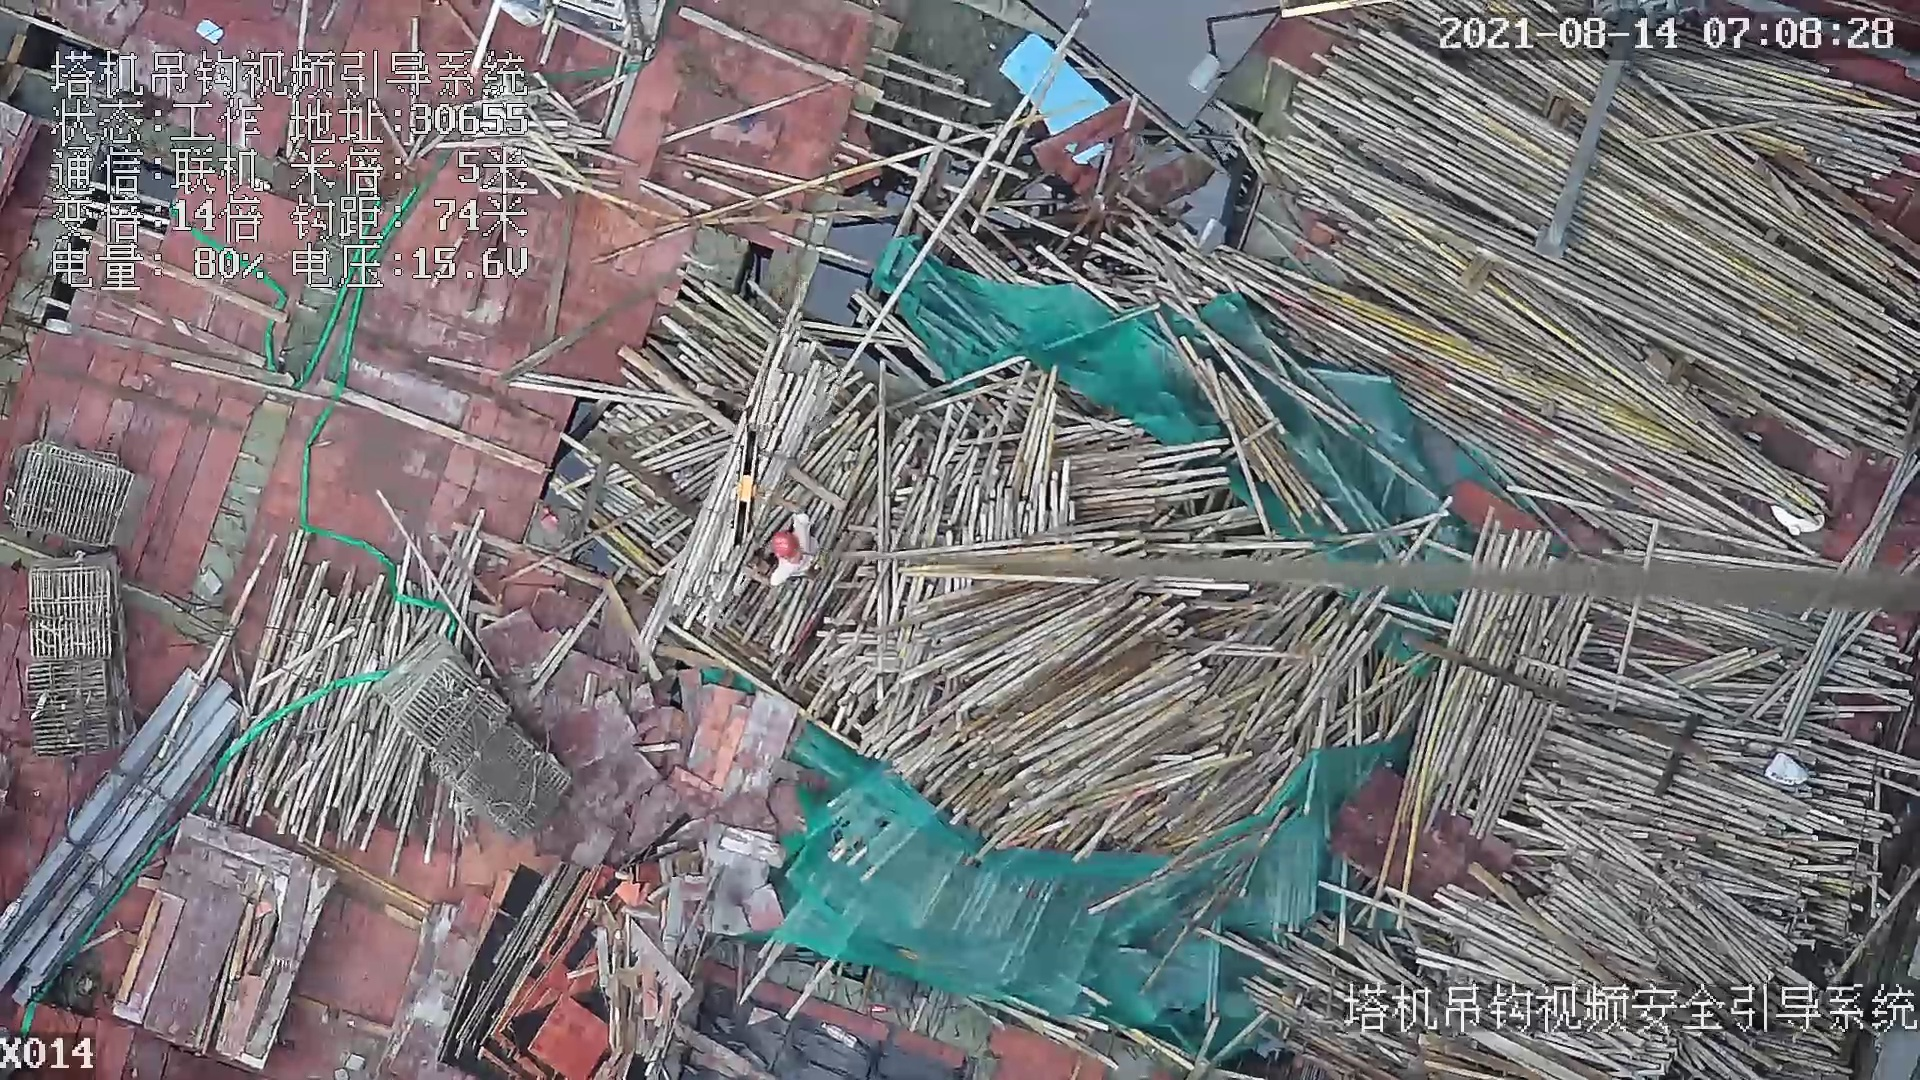helmet: (769, 531, 799, 562)
hook: (727, 424, 765, 554)
person: (769, 508, 817, 589)
